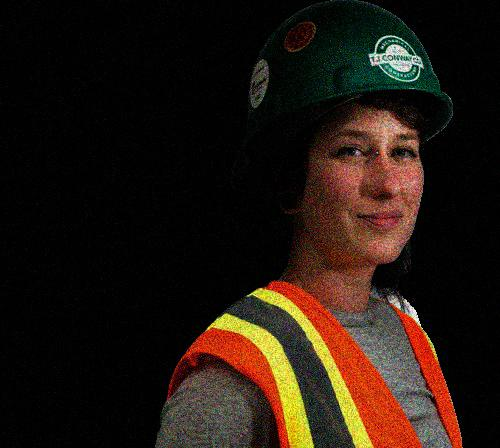helmet: (246, 1, 455, 266)
